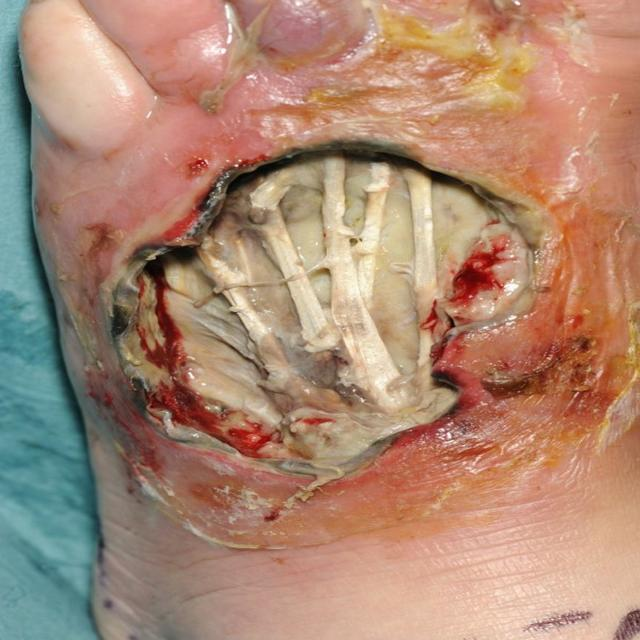wound: (108, 142, 542, 505)
